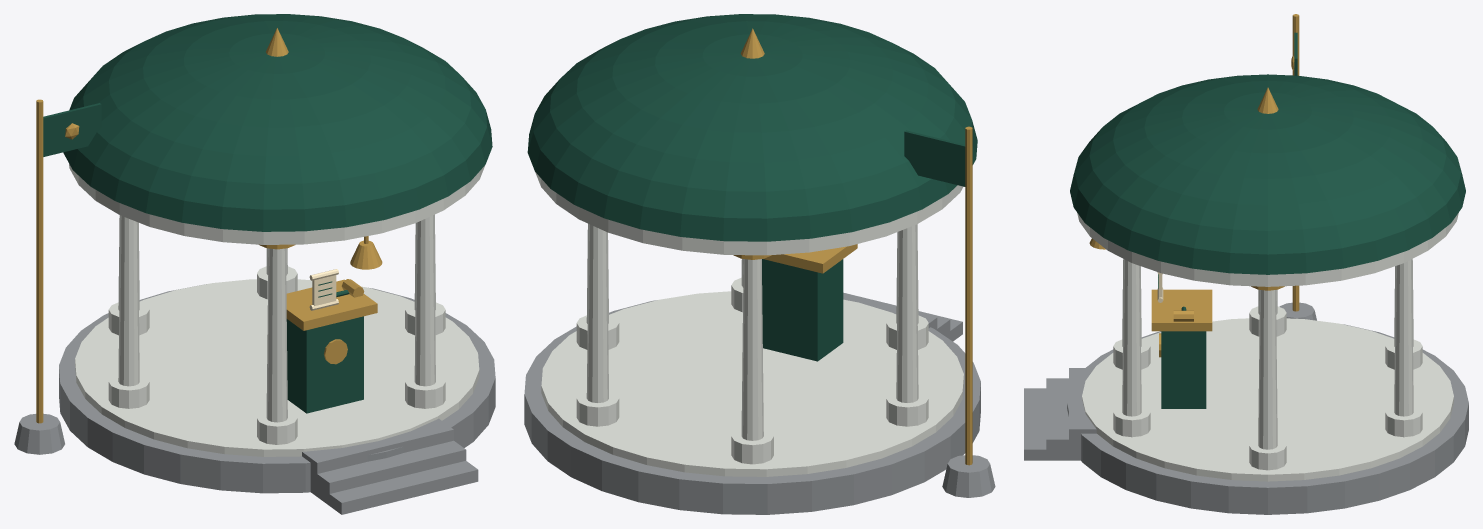
File: mayor_podium.glb
The picture shows the model from 3 angles, left to right: view 1: azimuth 30°, elevation 25°; view 2: azimuth 150°, elevation 25°; view 3: azimuth 270°, elevation 25°; orthographic projection. The views are drawn at different scales.
Visible parts, largest first — view 1: dome, floor, stone_base, lectern, cornice, front_step.001, front_step, column.004, column.003, column.005, front_step.002, flagpole (+11 smaller); view 2: dome, floor, stone_base, lectern, cornice, column.002, column.003, column.001, flagpole, civic_flag, flag_foot, lectern_top (+5 smaller); view 3: dome, floor, stone_base, cornice, lectern, column, column.001, column.005, lectern_top, front_step.001, front_step, front_step.002 (+7 smaller).
Boxes of the visible parts, <box> form: dome: <box>63,14,492,231</box>; floor: <box>75,279,479,456</box>; stone_base: <box>59,284,495,493</box>; lectern: <box>286,316,363,413</box>; cornice: <box>69,163,485,244</box>; front_step.001: <box>310,440,466,505</box>; front_step: <box>316,461,478,514</box>; column.004: <box>266,248,287,422</box>; column.003: <box>118,215,139,386</box>; column.005: <box>414,215,435,386</box>; front_step.002: <box>302,418,453,473</box>; flagpole: <box>36,99,43,423</box>; dome: <box>527,14,977,241</box>; floor: <box>541,291,963,476</box>; stone_base: <box>524,300,980,514</box>; lectern: <box>762,259,843,361</box>; cornice: <box>535,172,963,255</box>; column.002: <box>741,259,763,440</box>; column.003: <box>896,224,918,402</box>; column.001: <box>586,224,608,402</box>; flagpole: <box>965,126,972,465</box>; civic_flag: <box>904,130,965,186</box>; flag_foot: <box>942,455,995,497</box>; lectern_top: <box>763,244,857,273</box>; dome: <box>1070,74,1465,274</box>; floor: <box>1082,318,1453,481</box>; stone_base: <box>1067,324,1468,514</box>; cornice: <box>1077,212,1458,286</box>; lectern: <box>1161,331,1206,408</box>; column: <box>1258,290,1277,449</box>; column.001: <box>1394,259,1413,416</box>; column.005: <box>1122,259,1141,416</box>; lectern_top: <box>1151,289,1212,331</box>; front_step.001: <box>1046,378,1080,460</box>; front_step: <box>1024,388,1070,460</box>; front_step.002: <box>1069,368,1096,460</box>.
Size of the model in its own units: 4.92 by 4.05 by 4.76.
